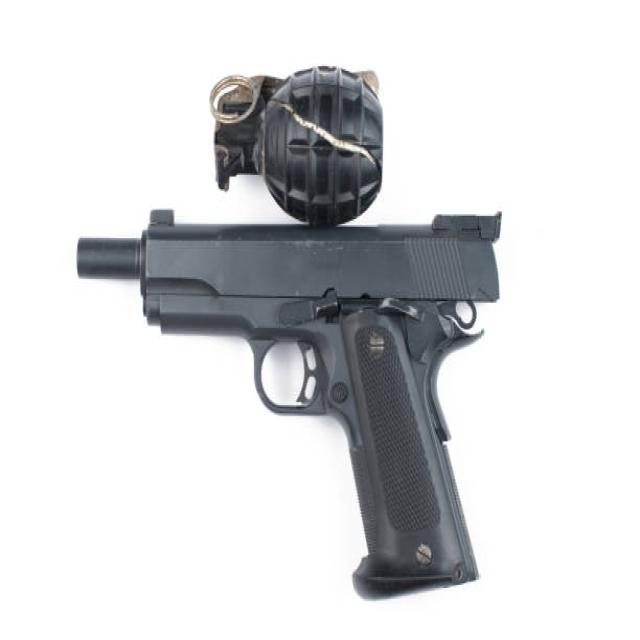grenade: (204, 57, 401, 238)
